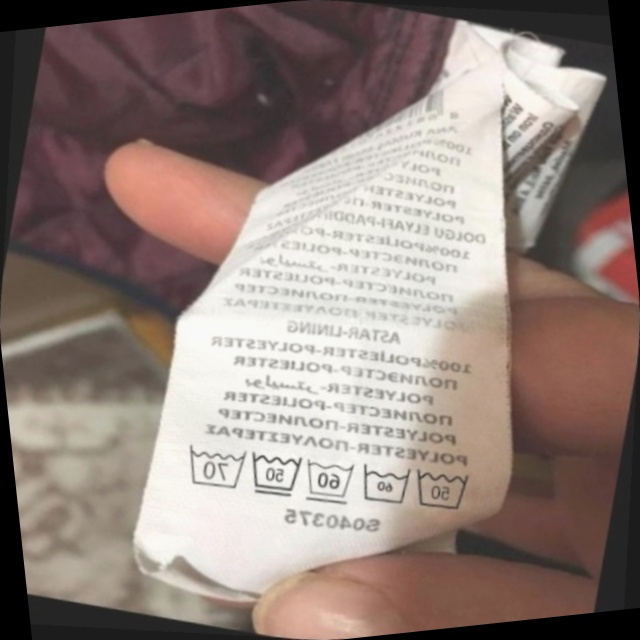50C: (400, 451, 484, 526), (235, 438, 312, 510)
60C: (291, 445, 364, 515), (347, 450, 421, 519)
70C: (170, 431, 254, 502)
